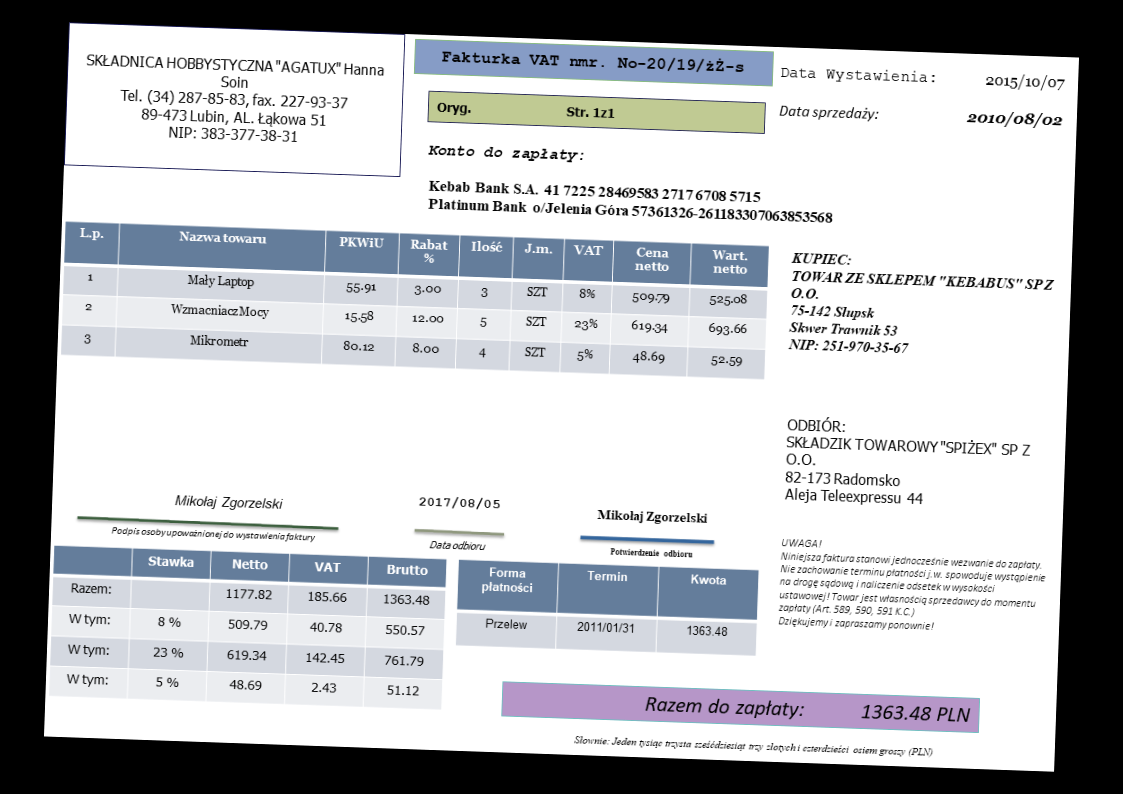Table: (59, 220, 771, 382), (46, 544, 449, 710), (453, 557, 760, 659)
TextBox: (785, 247, 1062, 364), (81, 50, 387, 151), (775, 536, 1048, 638), (781, 412, 1035, 515), (424, 176, 837, 226), (642, 692, 973, 728), (571, 731, 936, 760), (438, 46, 748, 77), (434, 97, 617, 124), (424, 140, 588, 166), (109, 523, 319, 543), (778, 63, 937, 89), (593, 505, 710, 528), (964, 108, 1065, 133), (173, 492, 287, 513), (776, 102, 880, 124), (415, 491, 502, 515), (982, 70, 1067, 94), (606, 544, 694, 561), (427, 537, 489, 554)
